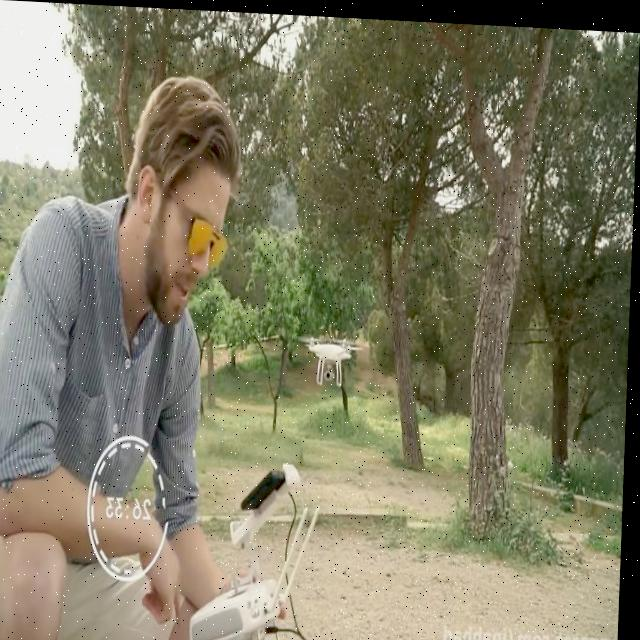drone: (299, 327, 369, 387)
